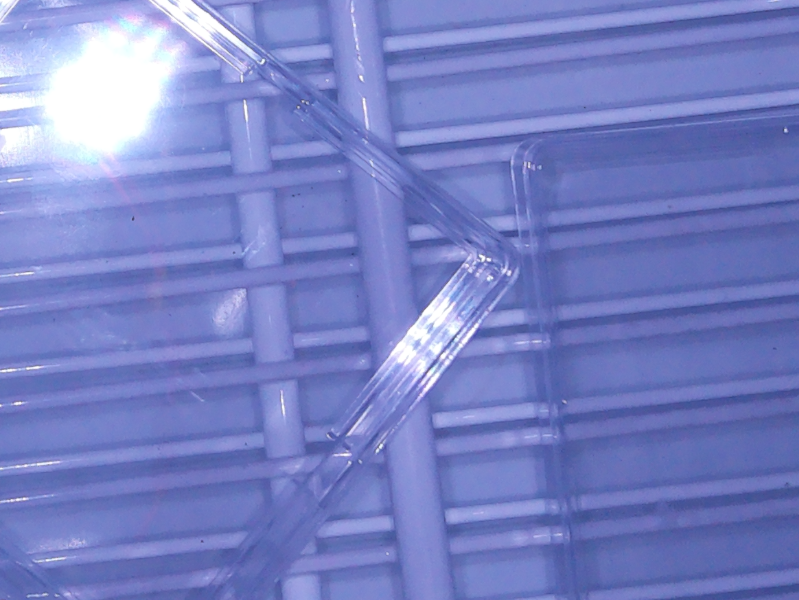plate: (1, 1, 523, 600), (511, 110, 799, 600)
